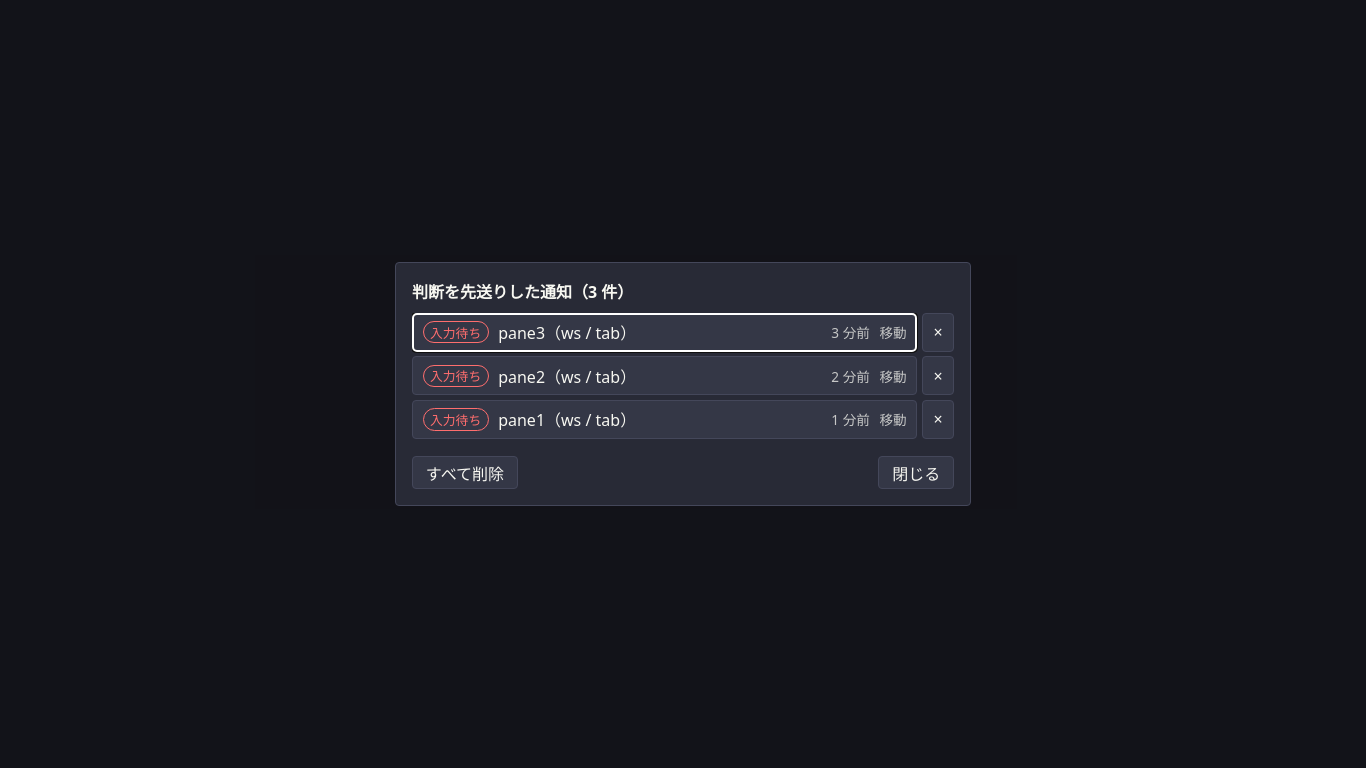
Test: NotificationHistoryDialog — 行の操作（AC11・AC12・AC-I2・AC-I3） › ［×］で 1 件消え、次の行へフォーカスが移る。最後の行を消したら前の行へ、0 件なら［閉じる］へ
Note: 新しい順は 3→2→1。先頭（3）を消すと、次（2）の本体へ。
Click the 1st button with class "nh-del" at (938, 332), box [922,313,954,352]
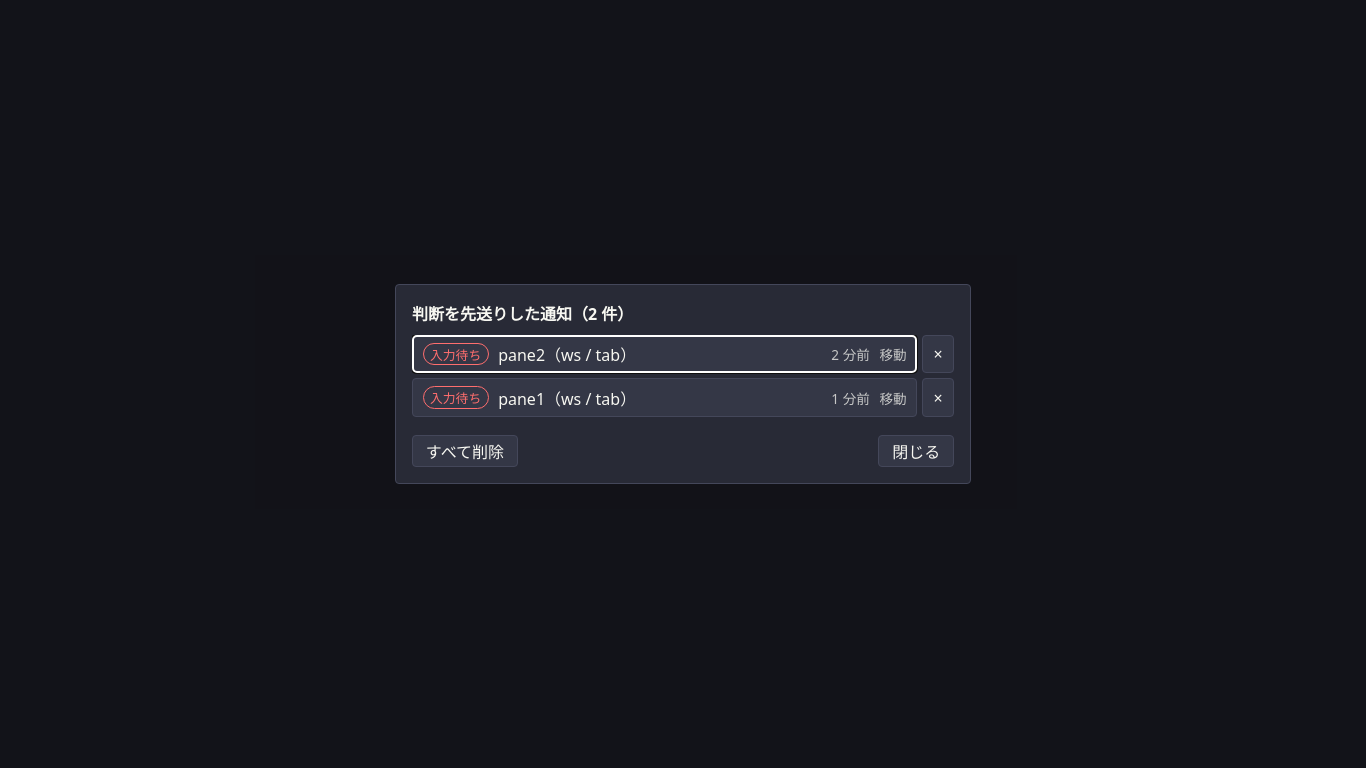
Now the number of list items with class "nh-row" is 2, box [412,335,954,373]; [412,378,954,417]
Note: 最後の行（1）を消すと、前の行（2）へ。
Click the 2nd button with class "nh-del" at (938, 398), box [922,378,954,417]
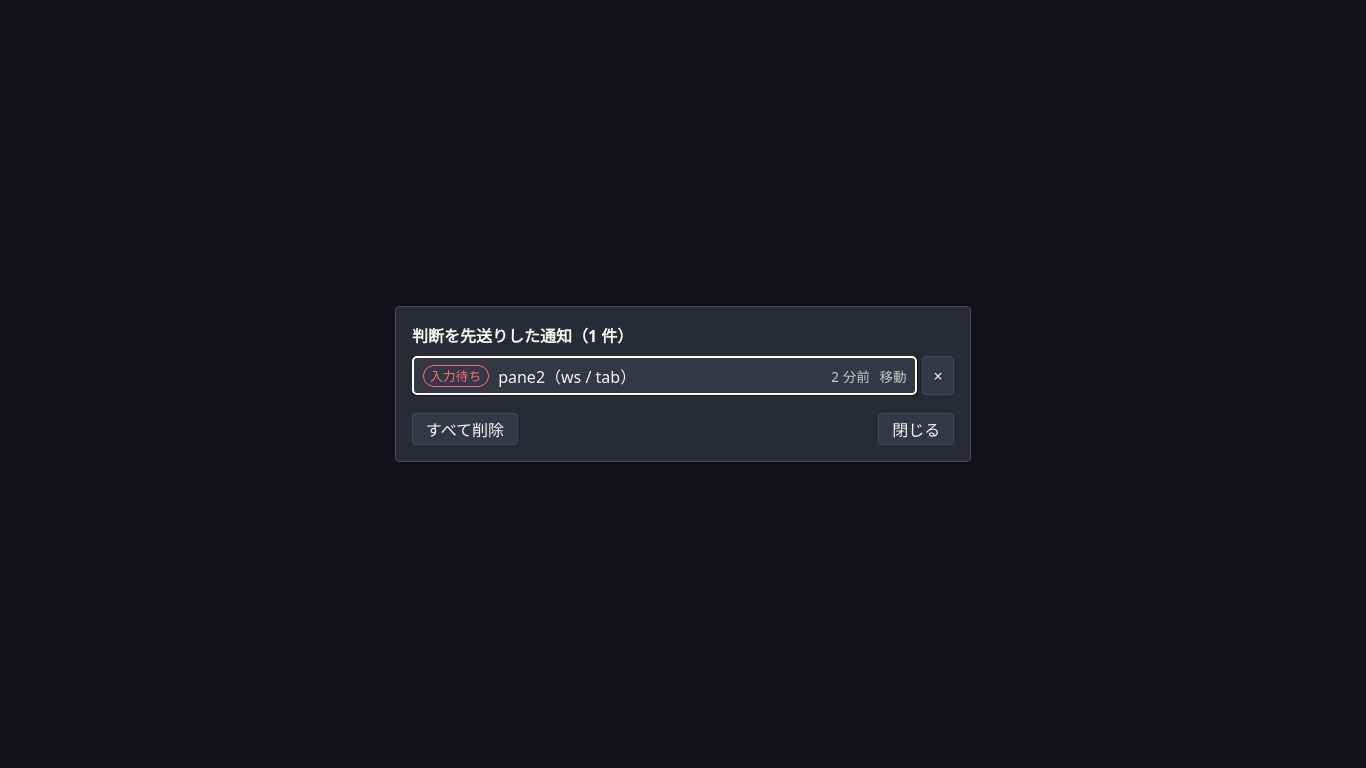
Note: 残りの 1 件を消すと 0 件。［閉じる］へ。
Click the button with class "nh-del" at (938, 376), box [922,356,954,395]
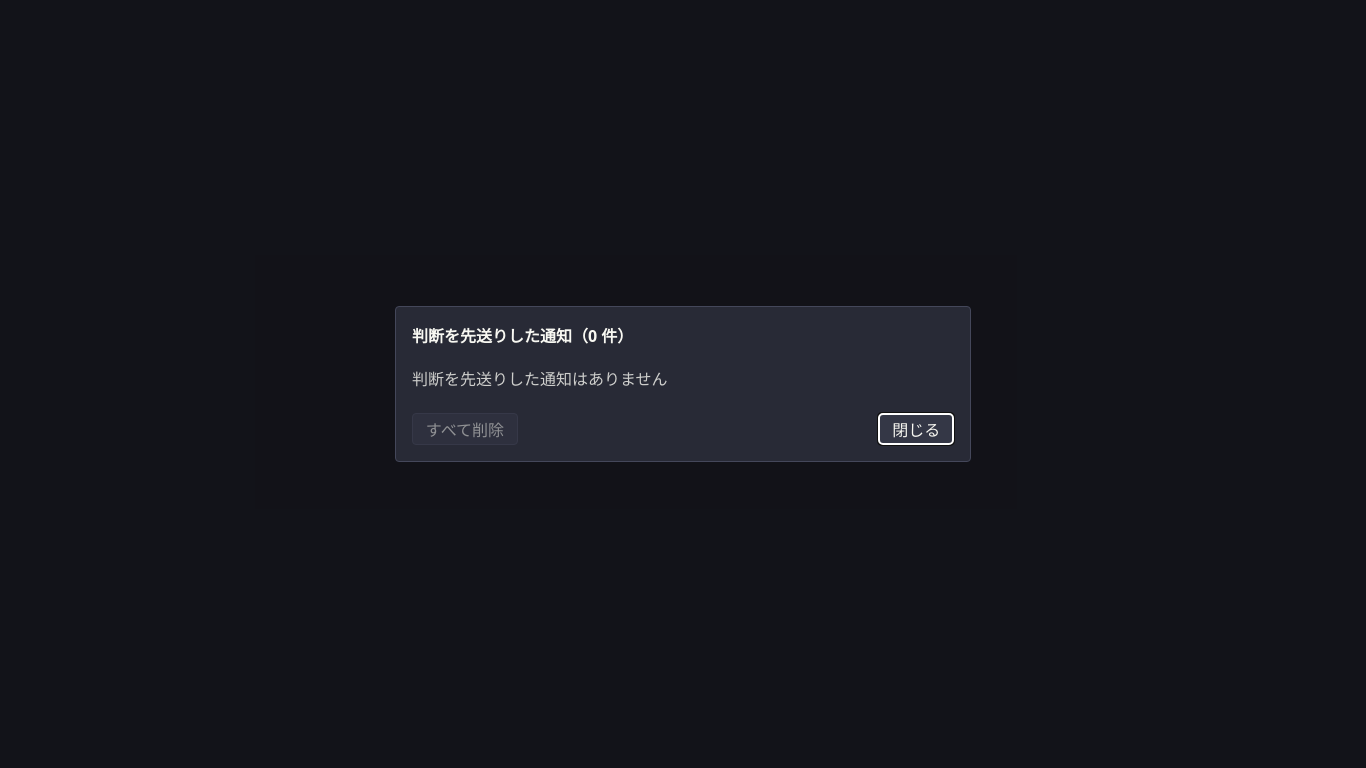
Now the text "判断を先送りした通知はありません" is shown, box [412,368,668,390]
